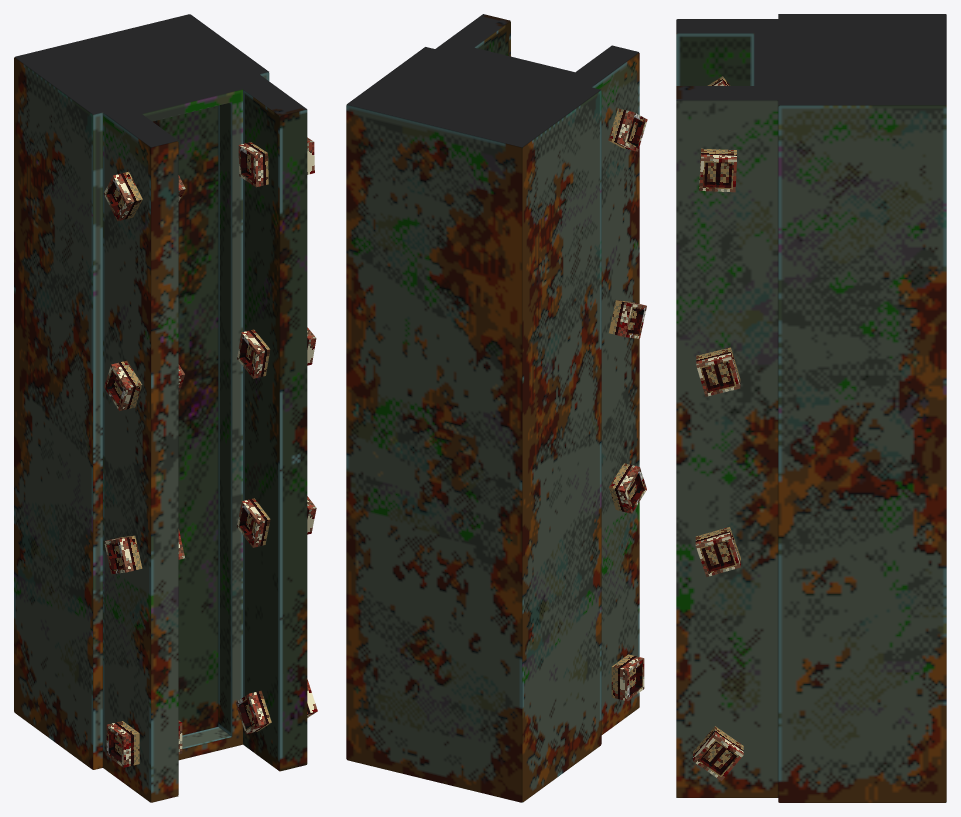
File: PillarBase.fbx
3 views of the same model, side by side, from view 1: azimuth 30°, elevation 25°; view 2: azimuth 150°, elevation 25°; view 3: azimuth 270°, elevation 25° (orthographic). The views are drawn at different scales.
Parts seen in each view (by area): view 1: Pilar, Bolt, Bolt_2, Bolt_5, Bolt_4, Bolt_7, Bolt_3, Bolt_6, Bolt_1; view 2: Pilar, Bolt_1, Bolt, Bolt_3, Bolt_2; view 3: Pilar, Bolt_6, Bolt_5, Bolt_4, Bolt_7.
Boxes of the visible parts, x1,y1,x2,y2 form: Pilar: (14, 14, 307, 802); Bolt: (106, 720, 182, 767); Bolt_2: (104, 360, 184, 411); Bolt_5: (236, 496, 316, 547); Bolt_4: (237, 327, 316, 378); Bolt_7: (238, 137, 314, 187); Bolt_3: (103, 171, 185, 221); Bolt_6: (235, 679, 317, 734); Bolt_1: (104, 529, 184, 574); Pilar: (346, 14, 639, 802); Bolt_1: (609, 463, 646, 513); Bolt: (611, 654, 644, 701); Bolt_3: (608, 108, 647, 151); Bolt_2: (609, 300, 646, 338); Pilar: (676, 14, 946, 802); Bolt_6: (693, 726, 743, 780); Bolt_5: (695, 527, 740, 577); Bolt_4: (696, 347, 740, 396); Bolt_7: (699, 148, 736, 192).
Size of the model in its own units: 122 by 400 by 141.
